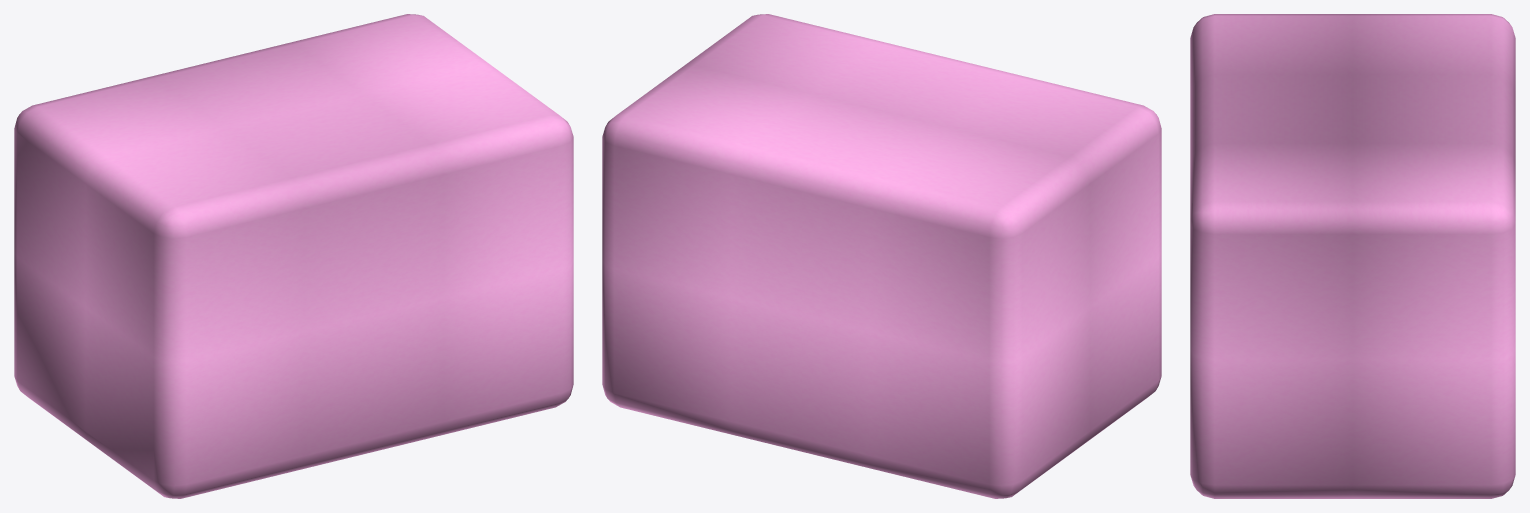
Rendered from __clay_block_01_0.obj.
3 renders of one model, left to right at view 1: azimuth 30°, elevation 25°; view 2: azimuth 150°, elevation 25°; view 3: azimuth 270°, elevation 25°, orthographic.
Visible parts, largest first — view 1: clay_block_0; view 2: clay_block_0; view 3: clay_block_0.
Boxes of the visible parts, x1,y1,x2,y2 form: clay_block_0: (14, 14, 573, 498); clay_block_0: (602, 14, 1161, 498); clay_block_0: (1190, 14, 1515, 498).
Bounding box in the file's own units: 3 × 2 × 2.
Materials: 1 (1 with a texture image).
